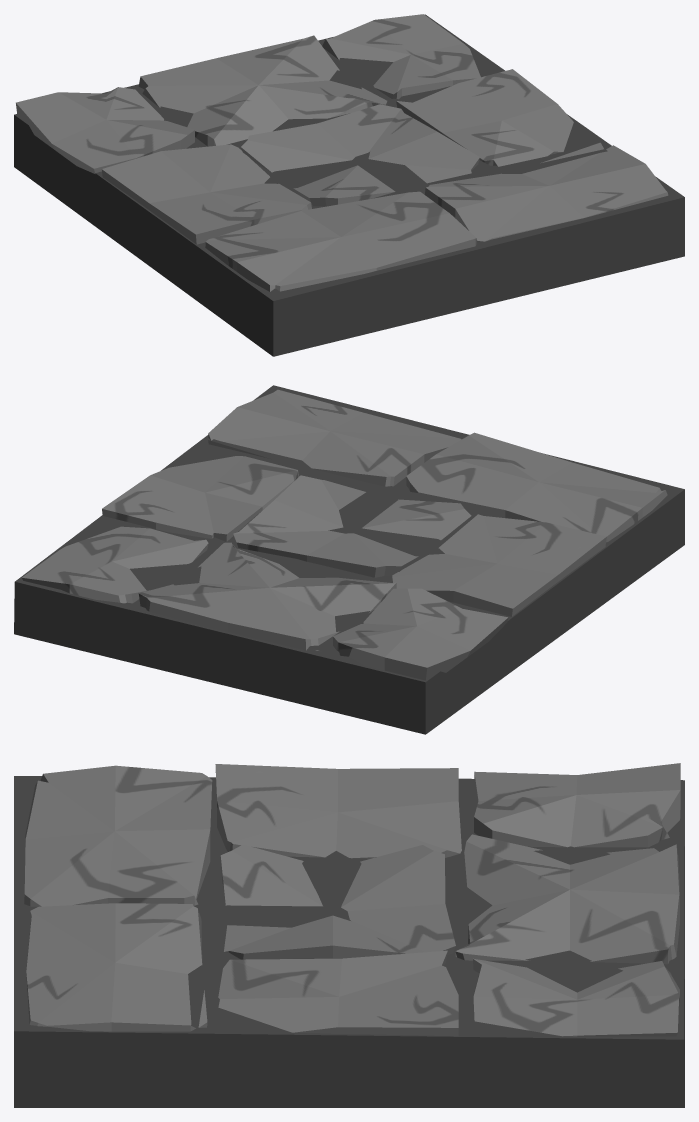
The model's file is piso roto.fbx.
The picture shows the model from 3 angles, top to bottom: view 1: azimuth 30°, elevation 25°; view 2: azimuth 150°, elevation 25°; view 3: azimuth 270°, elevation 25°; orthographic projection. The views are drawn at different scales.
Visible parts, largest first — view 1: polySurface9; view 2: polySurface9; view 3: polySurface9.
Part boxes in pixels (bbox=[...]): polySurface9: bbox=[14, 14, 684, 356]; polySurface9: bbox=[14, 385, 684, 734]; polySurface9: bbox=[14, 763, 684, 1107].
Size of the model in its own units: 22.23 by 3.36 by 24.04.
Materials: 1 (1 with a texture image).
